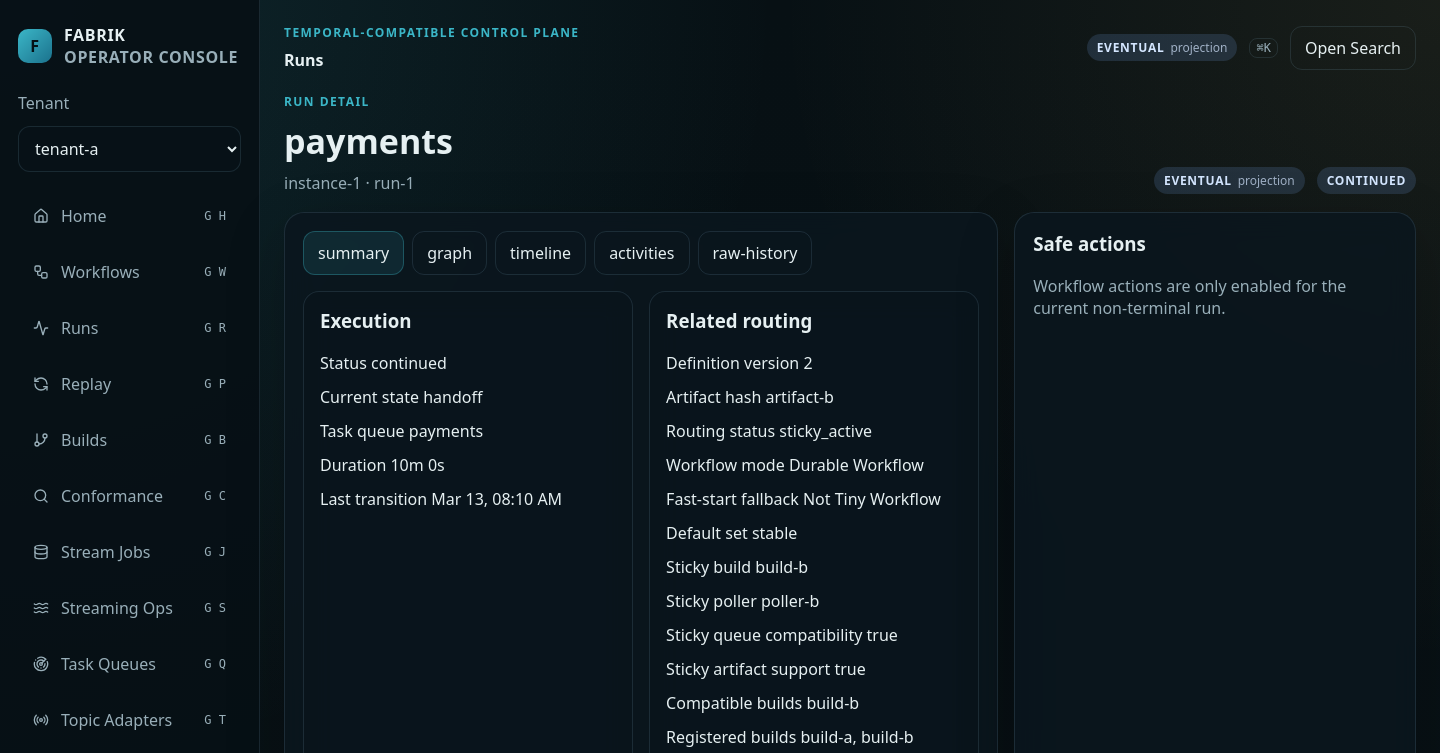
disables safe actions for a historical run detail
Expected: the heading "payments" is shown, x1=284 y1=118 x2=453 y2=164
Expected: the text "Routing status sticky_active" is shown, x1=666 y1=420 x2=872 y2=442
What coordinates should you click on to do the following:
click the button "raw-history"
I would click on:
 (755, 253)
Its box is x1=698 y1=231 x2=812 y2=275.
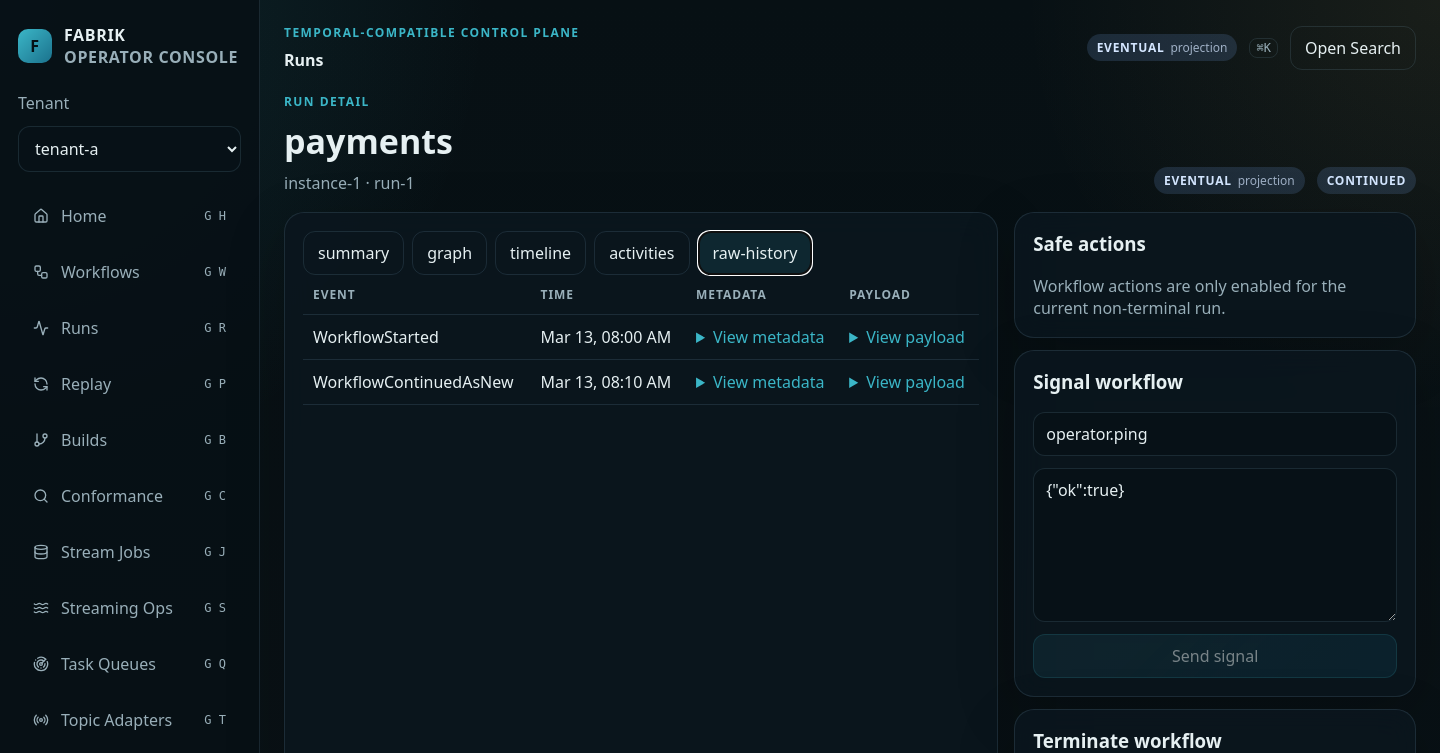
Expected: the heading "View payload" in the row of "WorkflowStarted" is shown, x1=866 y1=326 x2=965 y2=348
